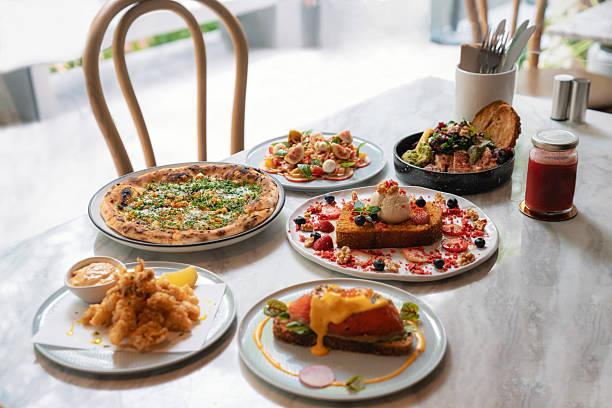Braised Crucian Carp: (238, 278, 446, 400), (32, 261, 232, 377), (286, 182, 502, 283), (87, 157, 285, 258), (241, 125, 386, 194), (393, 122, 522, 195)
